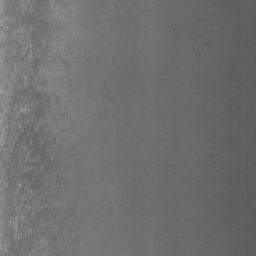Silk spot: (1, 57, 60, 256), (4, 0, 64, 72), (3, 75, 22, 89), (55, 54, 71, 68), (67, 207, 75, 216)
